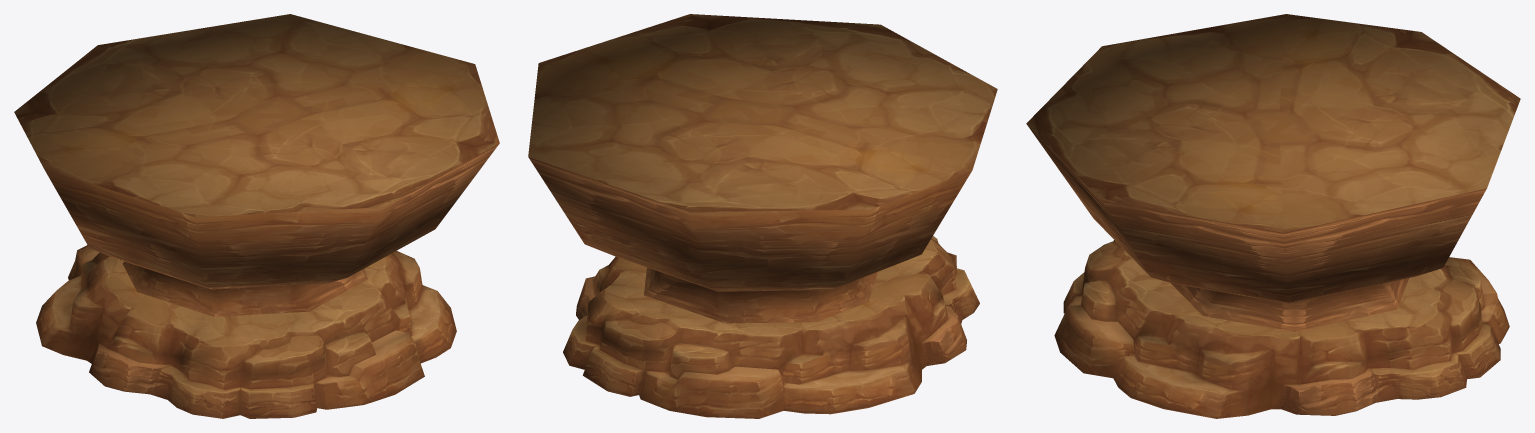
Rendered from Desert_cliff_01.fbx.
3 renders of one model, left to right at view 1: azimuth 30°, elevation 25°; view 2: azimuth 150°, elevation 25°; view 3: azimuth 270°, elevation 25°, orthographic. The views are drawn at different scales.
Visible parts, largest first — view 1: Desert_cliff_01; view 2: Desert_cliff_01; view 3: Desert_cliff_01.
Part boxes in pixels (left/top/right/bottom): Desert_cliff_01: left=14, top=14, right=499, bottom=418; Desert_cliff_01: left=528, top=14, right=997, bottom=418; Desert_cliff_01: left=1026, top=14, right=1520, bottom=418.
Size of the model in its own units: 821 by 376 by 784.
